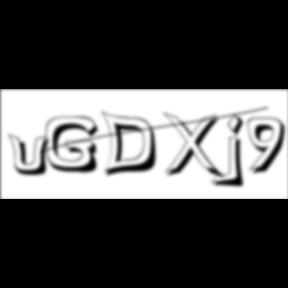D: (100, 110, 163, 180)
G: (46, 116, 104, 176)
X: (163, 112, 227, 182)
j: (224, 113, 252, 191)
u: (8, 132, 56, 178)
